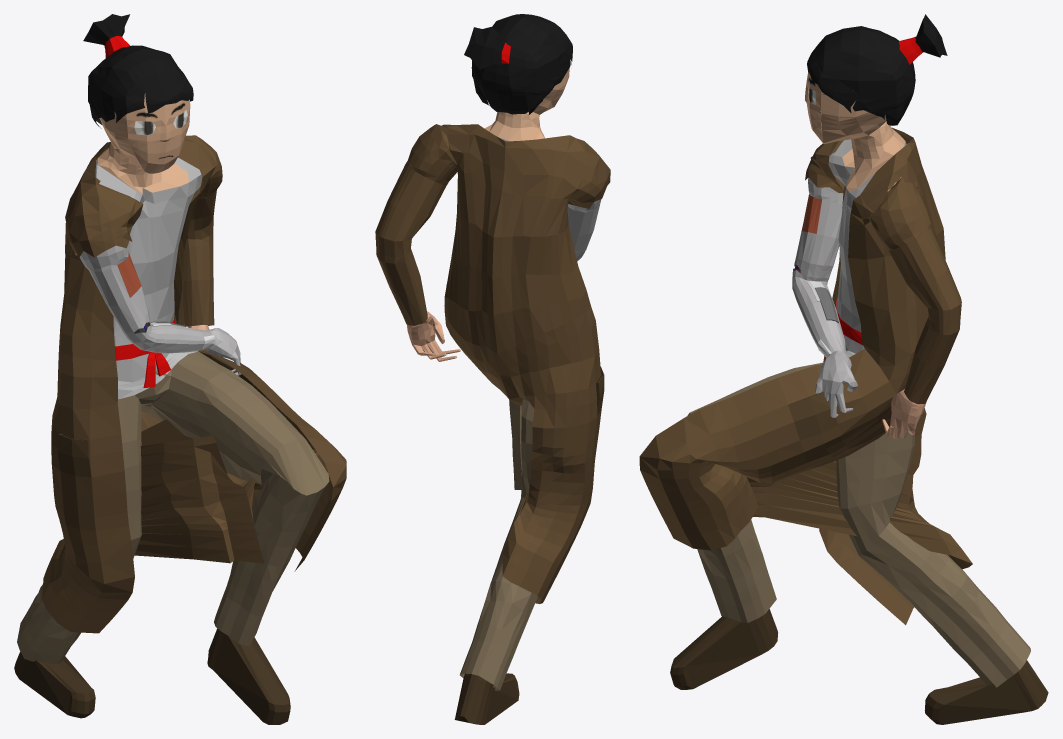
Rendered from One_RB_000015.obj.
3 views of the same model, side by side, from view 1: azimuth 30°, elevation 25°; view 2: azimuth 150°, elevation 25°; view 3: azimuth 270°, elevation 25° (orthographic). The views are drawn at different scales.
Parts seen in each view (by area): view 1: Hair_Cube.004; view 2: Hair_Cube.004; view 3: Hair_Cube.004.
Part boxes in pixels (left/top/right/bottom): Hair_Cube.004: left=14, top=14, right=346, bottom=724; Hair_Cube.004: left=375, top=14, right=610, bottom=724; Hair_Cube.004: left=639, top=14, right=1048, bottom=724.
Bounding box in the file's own units: 1.07 × 3.68 × 1.91.
